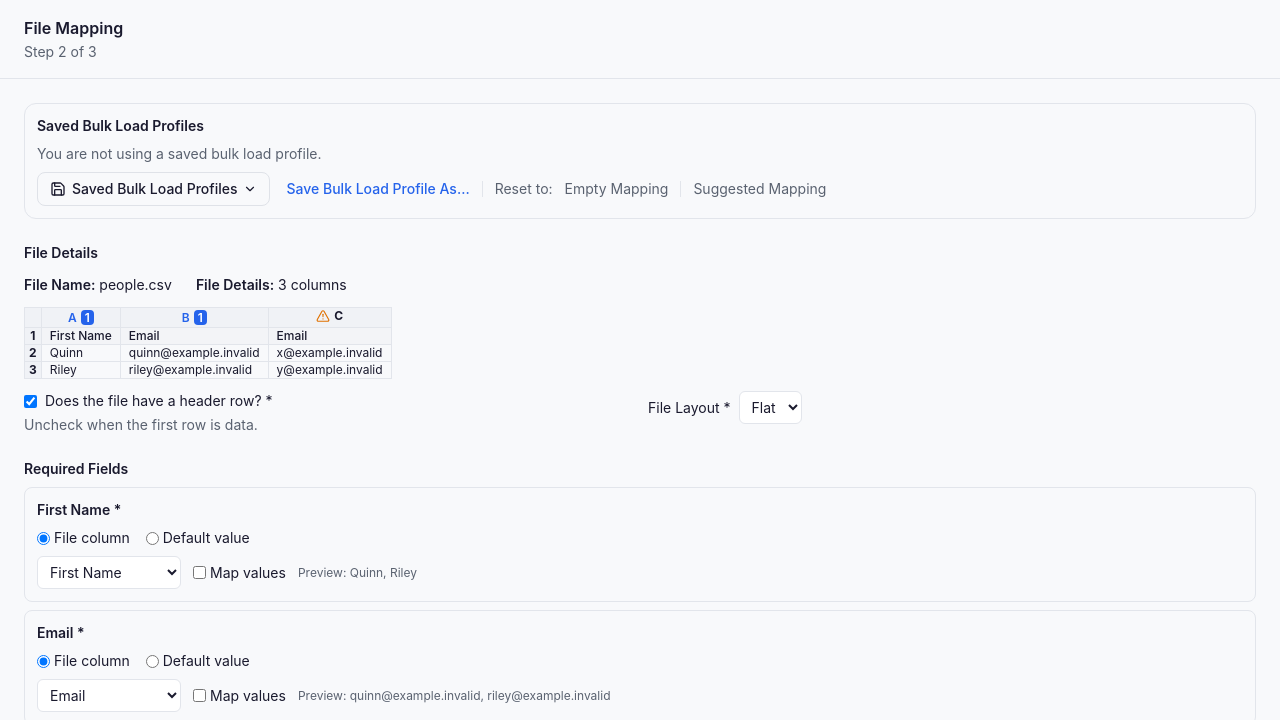
Test: saved bulk load profiles (#726) › lists your profiles and those shared with you, and only the owner may save, rename or delete
This screenshot has width=1280, height=720.
Check: the element "Saved Bulk Load Profiles" shows "You are not using a saved bulk load profile.", box top-left (37, 145), bottom-right (322, 162)
Click the button "Saved Bulk Load Profiles": (154, 189) top-left (37, 172), bottom-right (270, 206)
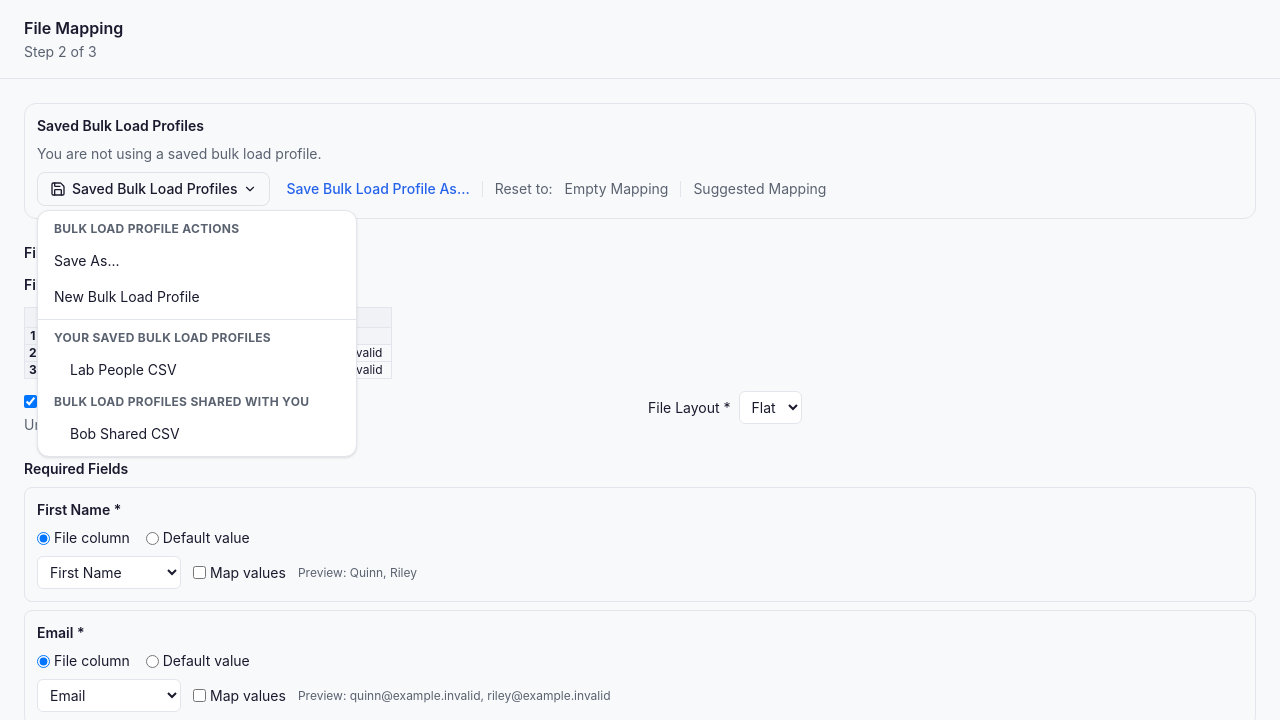
Check: the menu item "Lab People CSV" is shown, box top-left (38, 352), bottom-right (356, 388)
Check: the menu item "Bob Shared CSV" is shown
Click the menu item "Bob Shared CSV": (125, 434) top-left (38, 416), bottom-right (356, 452)
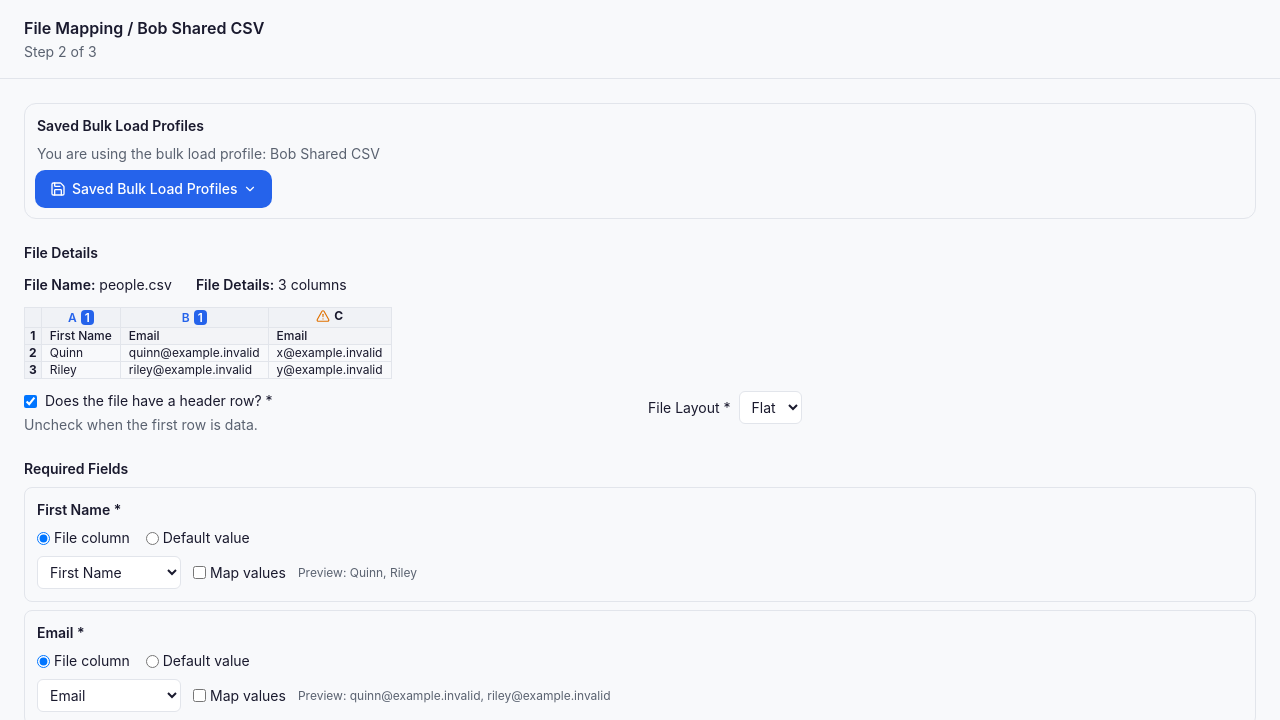
Check: the heading "File Mapping / Bob Shared CSV" is shown, box top-left (24, 16), bottom-right (264, 40)
Check: the element "Saved Bulk Load Profiles" shows "You are using the bulk load profile: Bob Shared CSV", box top-left (37, 145), bottom-right (380, 162)
Click the button "Saved Bulk Load Profiles": (154, 189) top-left (37, 172), bottom-right (270, 206)
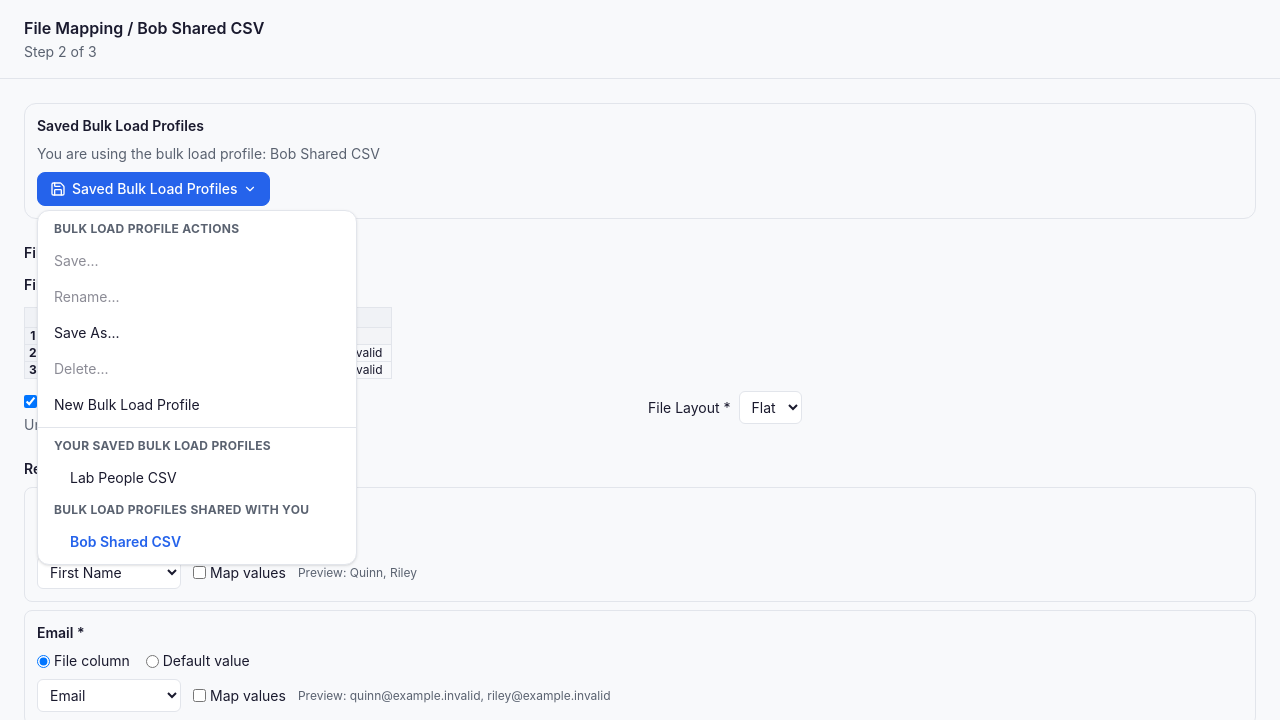
Check: the menu item "Save..." is disabled, box top-left (38, 243), bottom-right (356, 279)
Check: the menu item "Rename..." is disabled, box top-left (38, 279), bottom-right (356, 315)
Check: the menu item "Delete..." is disabled, box top-left (38, 351), bottom-right (356, 387)
